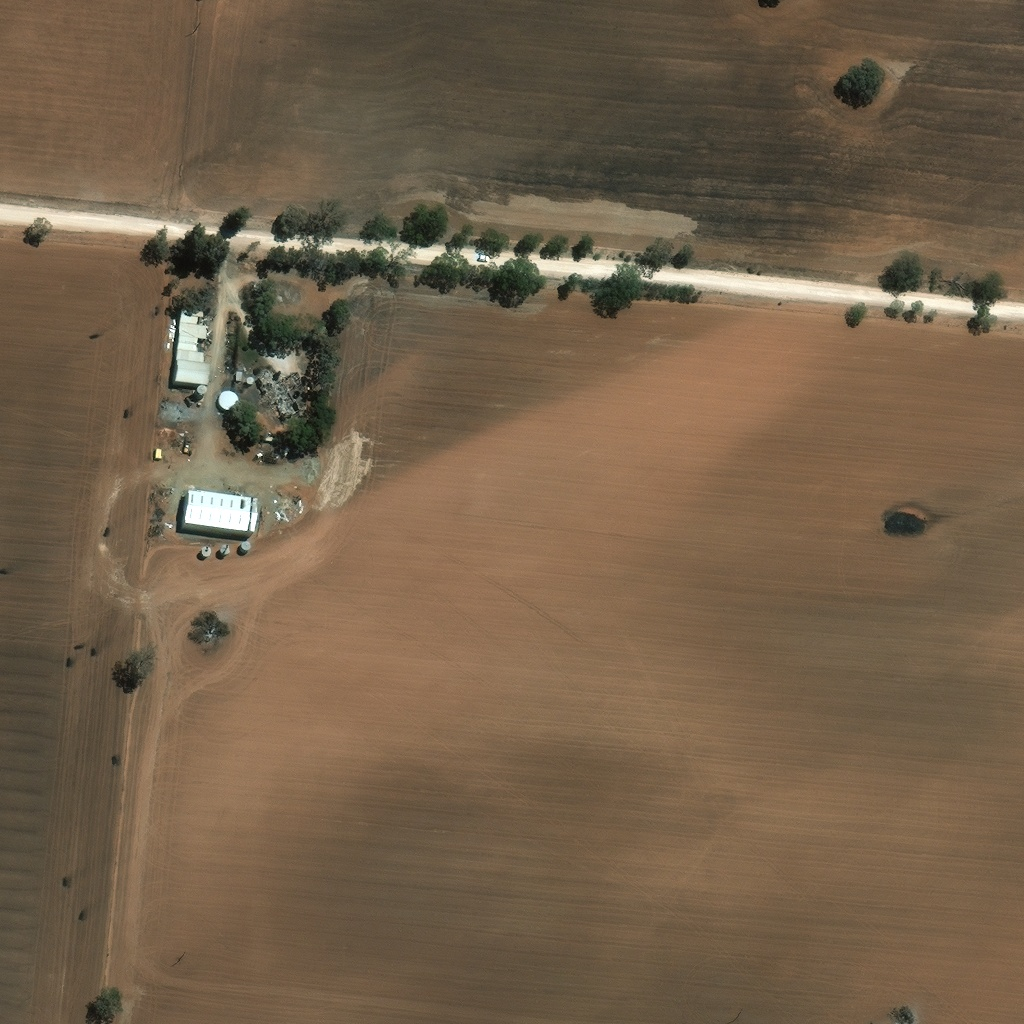0 no-damage: (183, 491, 259, 533), (175, 306, 211, 384), (220, 388, 239, 408), (196, 385, 207, 396), (236, 368, 245, 381), (245, 375, 254, 383), (268, 441, 278, 448), (157, 446, 163, 455)
3 destroyed: (258, 364, 310, 418)
4 un-classified: (233, 577, 245, 588), (182, 417, 193, 427), (248, 578, 257, 587)
